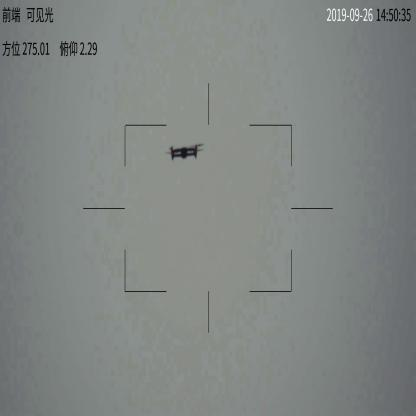uav: (162, 140, 202, 164)
